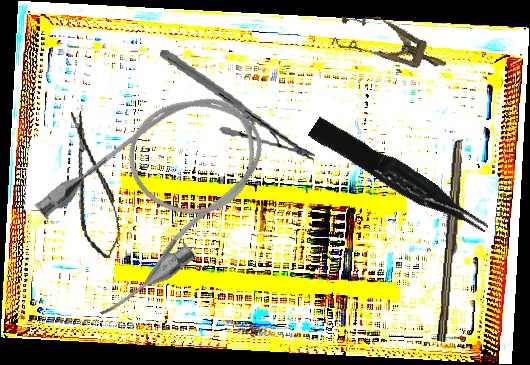Cannula: (21, 66, 296, 326)
Micro Scissor: (61, 107, 125, 262)
Needle Holder: (150, 49, 325, 161)
Scalpel Handle: (437, 140, 466, 343)
Speculum: (330, 4, 454, 86)
Tissue Forceps: (307, 109, 492, 248)
